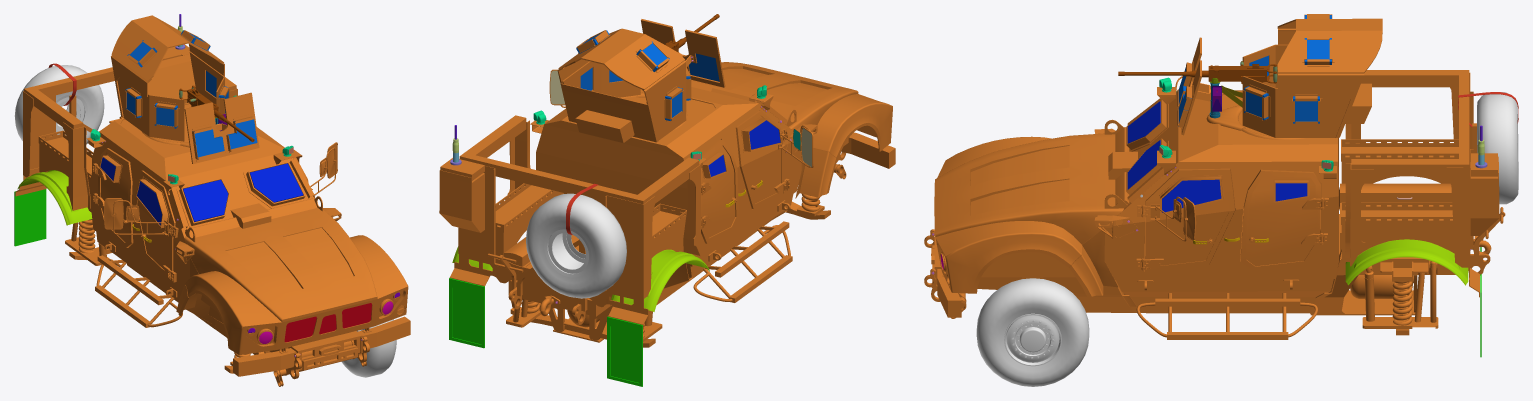
File: Vehicle 01.fbx
3 renders of one model, left to right at view 1: azimuth 30°, elevation 25°; view 2: azimuth 150°, elevation 25°; view 3: azimuth 270°, elevation 25°, orthographic. The views are drawn at different scales.
Visible parts, largest first — view 1: Vehicle, Spare Tire_low, Tire_low, Machine Gun; view 2: Vehicle, Spare Tire_low; view 3: Vehicle, Tire_low, Spare Tire_low, Wheels, Machine Gun.
Boxes of the visible parts, left/top/right/bottom form: Vehicle: left=14, top=14, right=410, bottom=386; Spare Tire_low: left=14, top=65, right=104, bottom=144; Tire_low: left=341, top=319, right=396, bottom=377; Machine Gun: left=179, top=85, right=254, bottom=142; Vehicle: left=439, top=19, right=895, bottom=386; Spare Tire_low: left=526, top=193, right=626, bottom=298; Vehicle: left=924, top=14, right=1518, bottom=357; Tire_low: left=976, top=278, right=1089, bottom=386; Spare Tire_low: left=1477, top=92, right=1518, bottom=204; Wheels: left=1004, top=313, right=1061, bottom=366; Machine Gun: left=1118, top=61, right=1277, bottom=118.
Size of the model in its own units: 2229 by 2419 by 4124.
